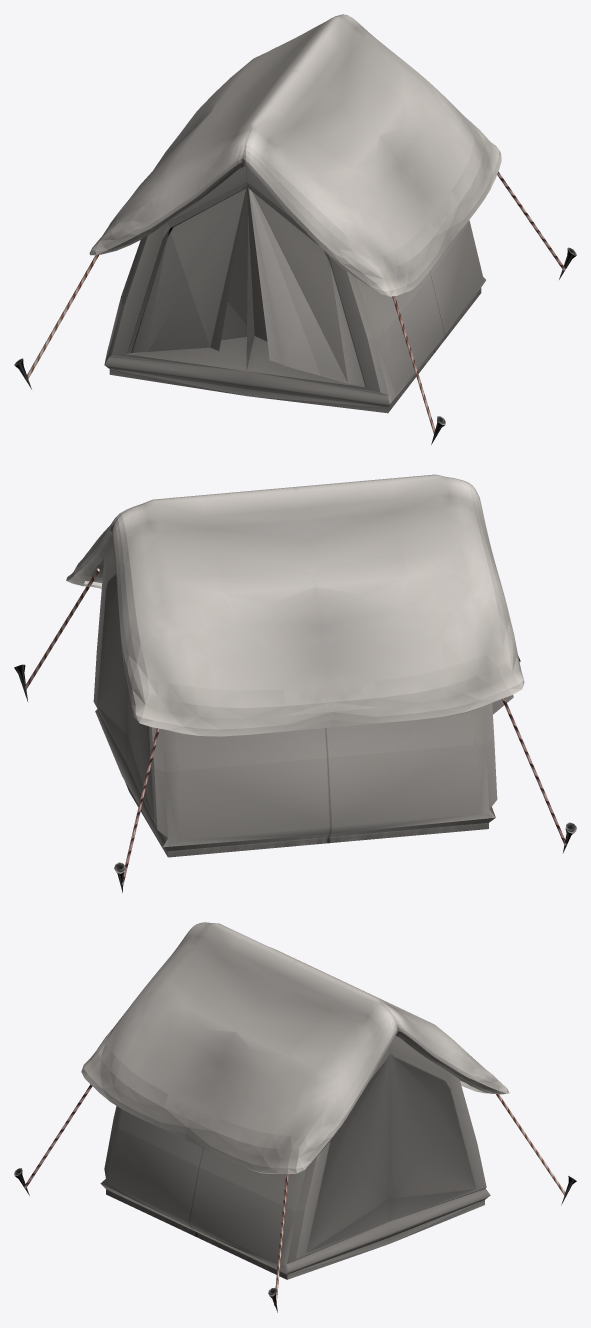
Rendered from newtent.fbx.
The picture shows the model from 3 angles, top to bottom: view 1: azimuth 30°, elevation 25°; view 2: azimuth 150°, elevation 25°; view 3: azimuth 270°, elevation 25°; orthographic projection. The views are drawn at different scales.
Visible parts, largest first — view 1: Object001, Box001, Object002, Pyramid002; view 2: Object001, Box001, Pyramid002; view 3: Object001, Box001, Pyramid002.
Boxes of the visible parts, <box> form: Object001: <box>89,14,501,296</box>; Box001: <box>104,166,485,413</box>; Object002: <box>131,186,365,386</box>; Pyramid002: <box>14,171,576,444</box>; Object001: <box>66,474,524,736</box>; Box001: <box>93,545,497,857</box>; Pyramid002: <box>14,568,576,892</box>; Object001: <box>81,922,509,1174</box>; Box001: <box>100,1036,490,1279</box>; Pyramid002: <box>14,1084,576,1312</box>.
Bounding box in the file's own units: 248 × 117 × 248.
